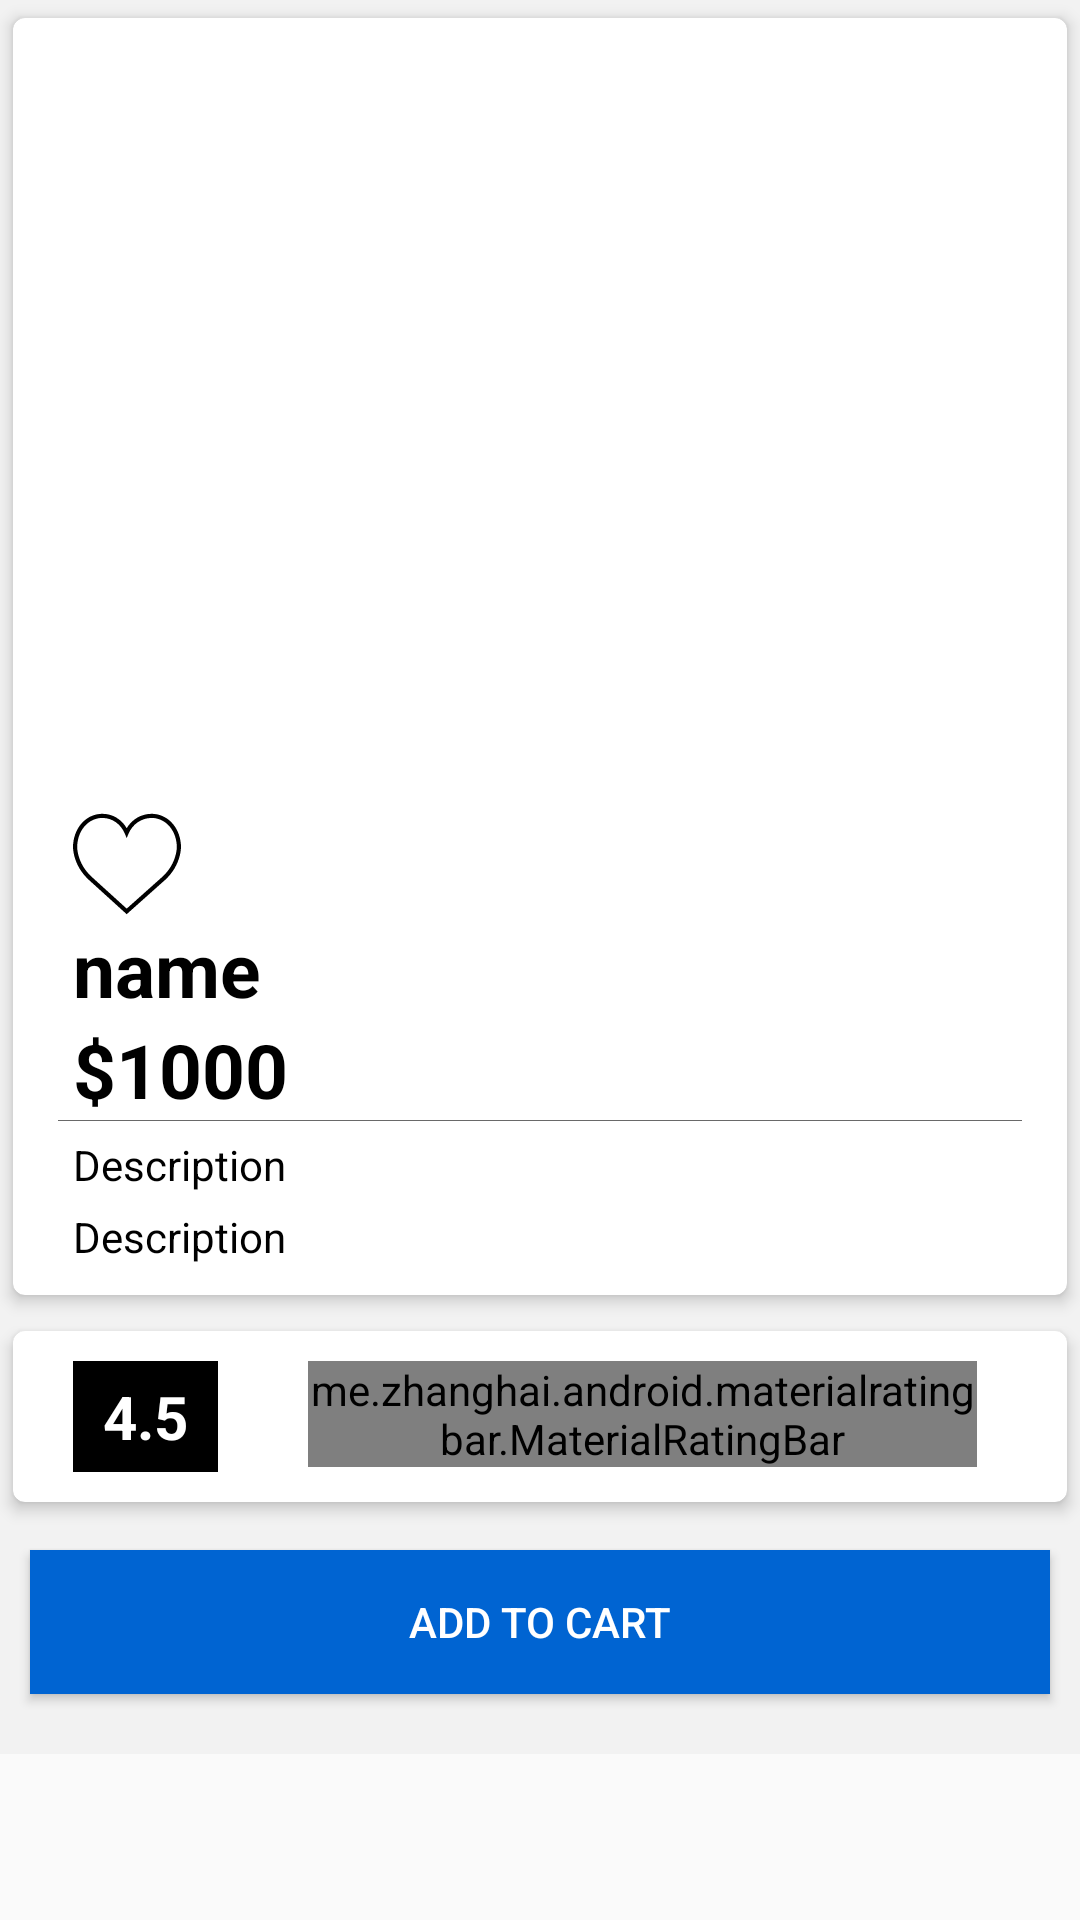

Icon click points for this 1080 x 1920 phone screenshot, format (x=x, y=y):
like: (x=127, y=863)
